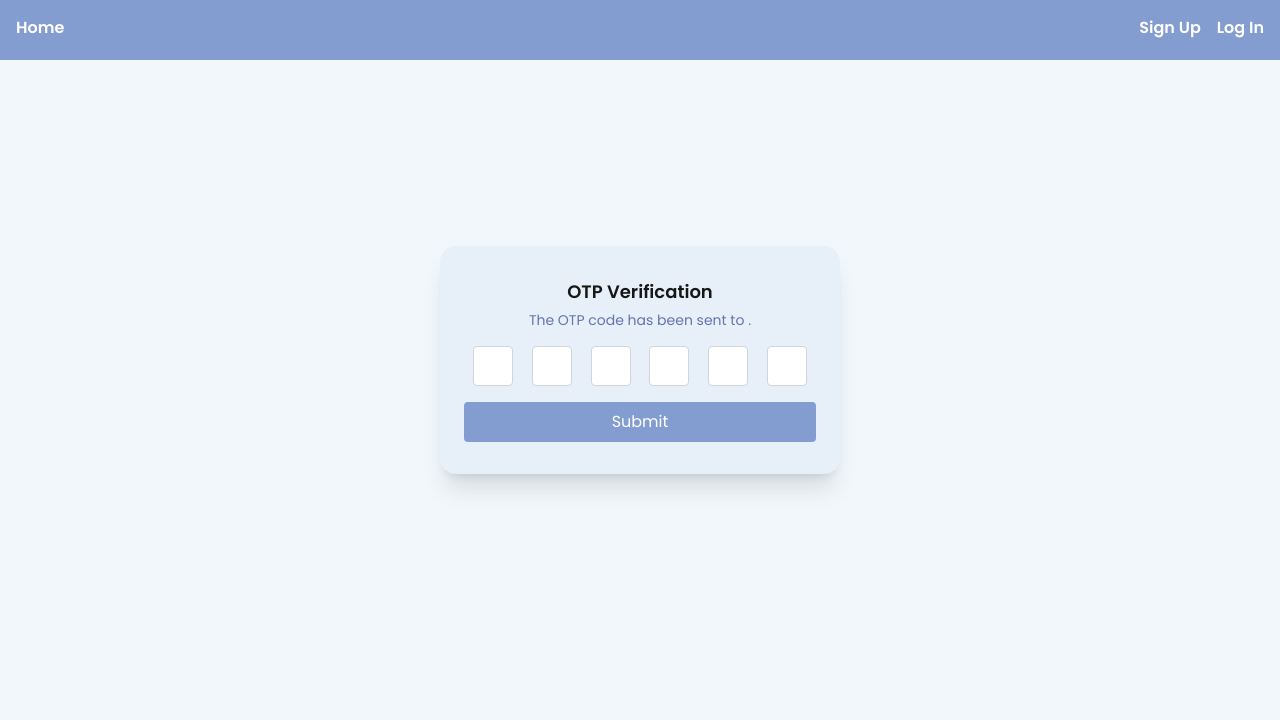
Test case: OTP Verification Page › displays an error message on invalid OTP
Type "1" into the field named "Please enter OTP character 1". click: [493, 366]
box: [473,346,513,386]
Type "2" into the field named "Please enter OTP character 2". click: [552, 366]
box: [532,346,572,386]
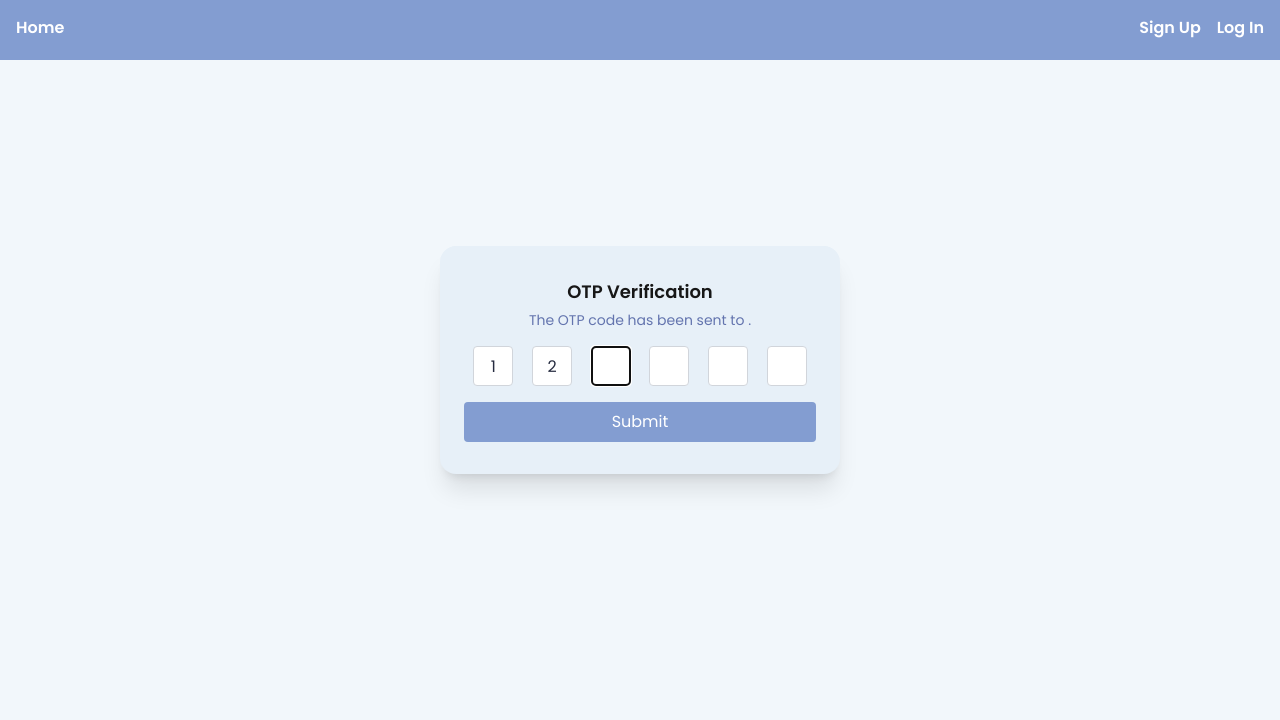
Type "3" into the field named "Please enter OTP character 3". click: [611, 366]
box: [591,346,631,386]
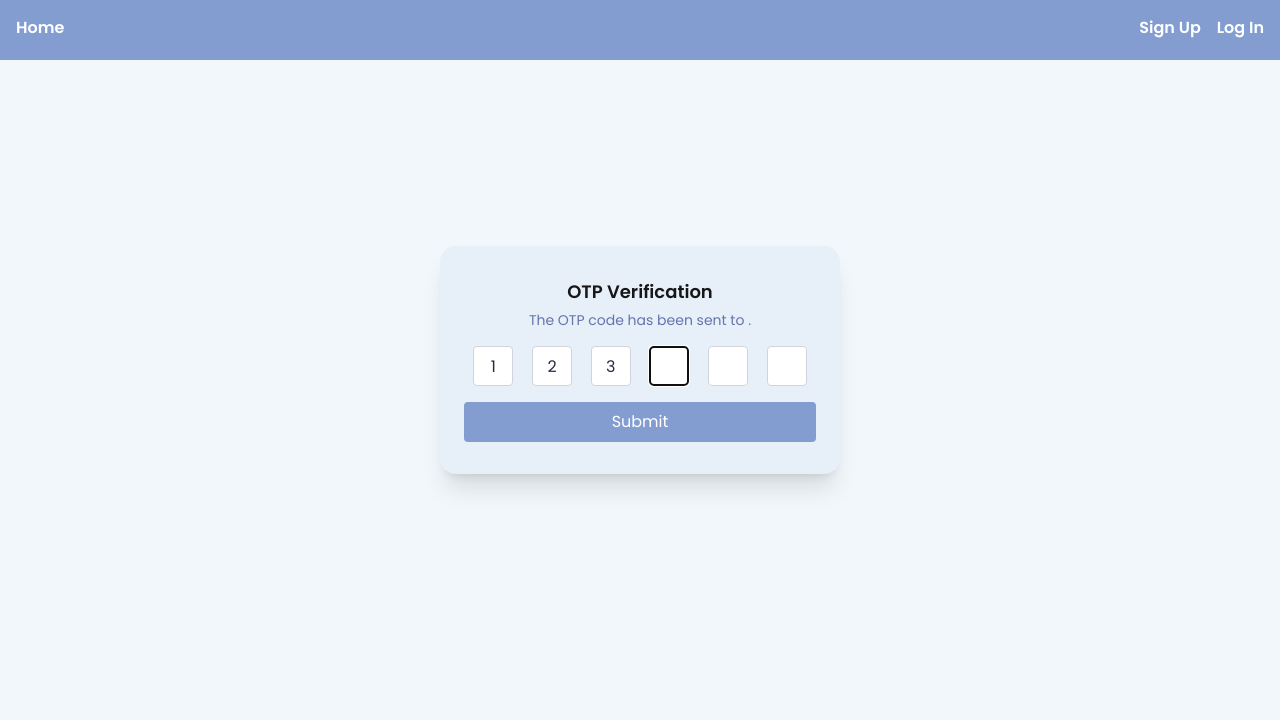
Type "4" into the field named "Please enter OTP character 4". click: [669, 366]
box: [649,346,689,386]
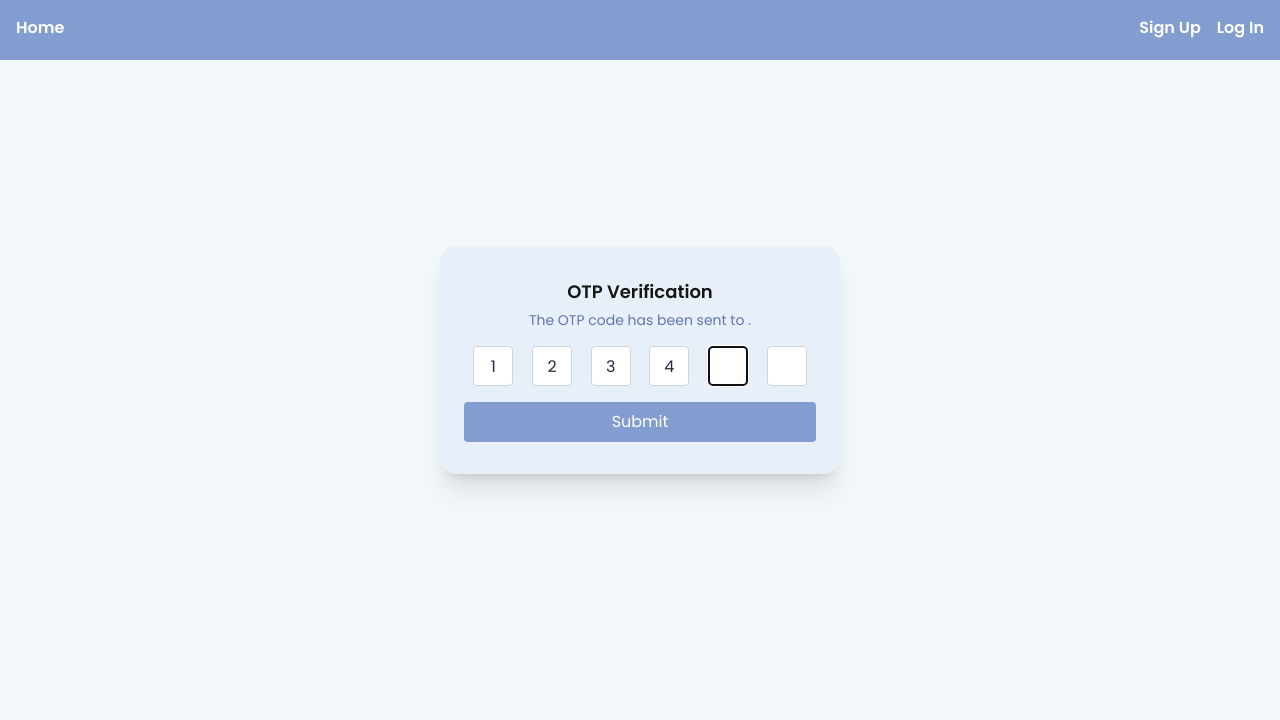
Type "5" into the field named "Please enter OTP character 5". click: [728, 366]
box: [708,346,748,386]
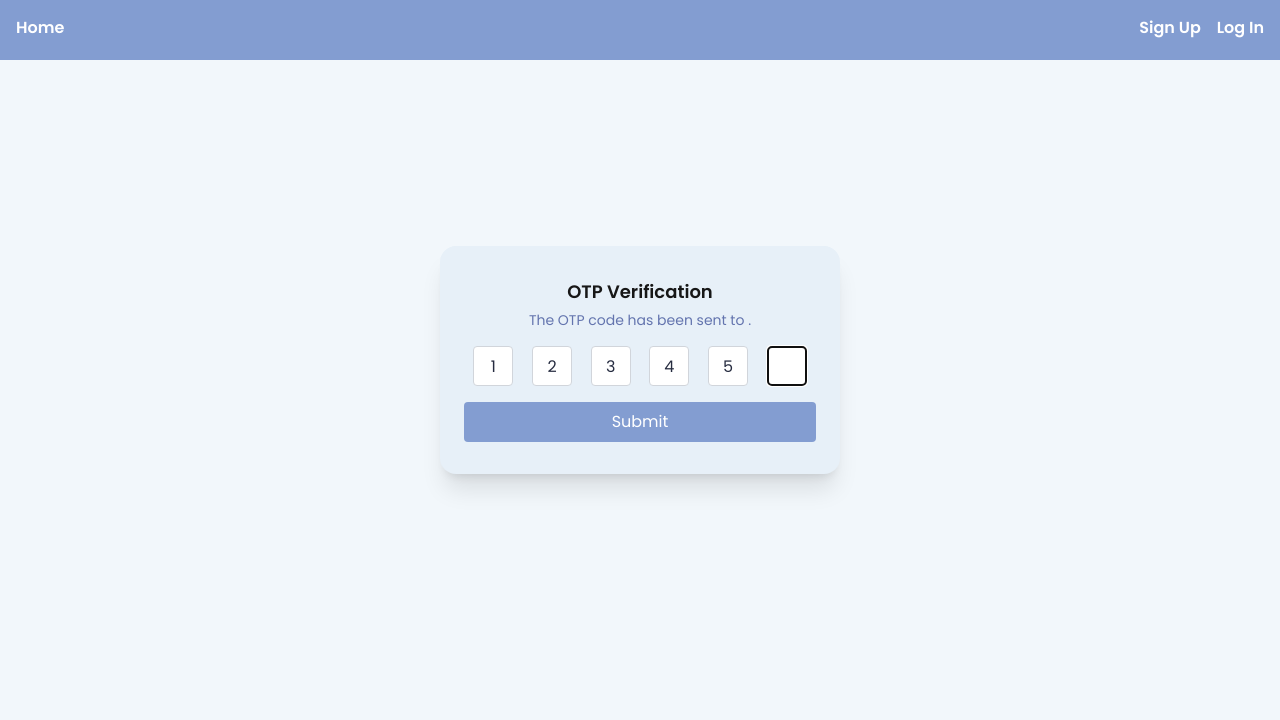
Type "6" into the field named "Please enter OTP character 6". click: [787, 366]
box: [767,346,807,386]
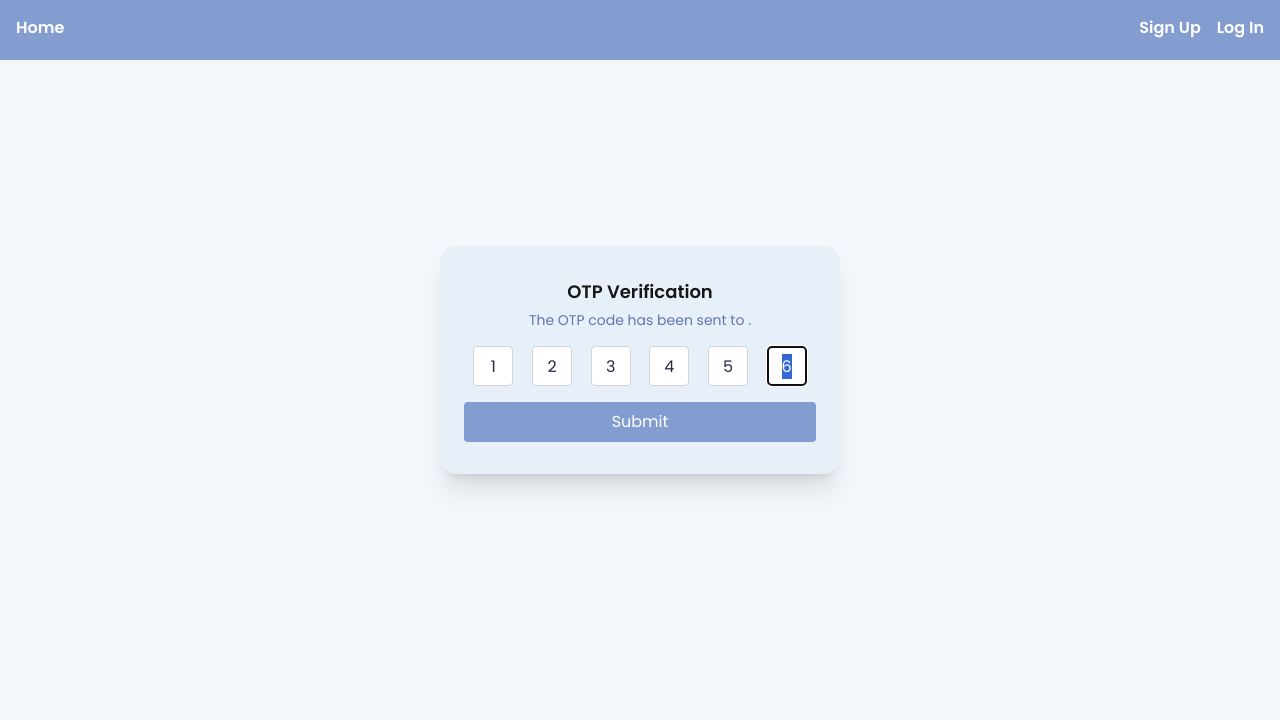
Click the button "Submit". click: [640, 422]
box: [464,402,816,442]
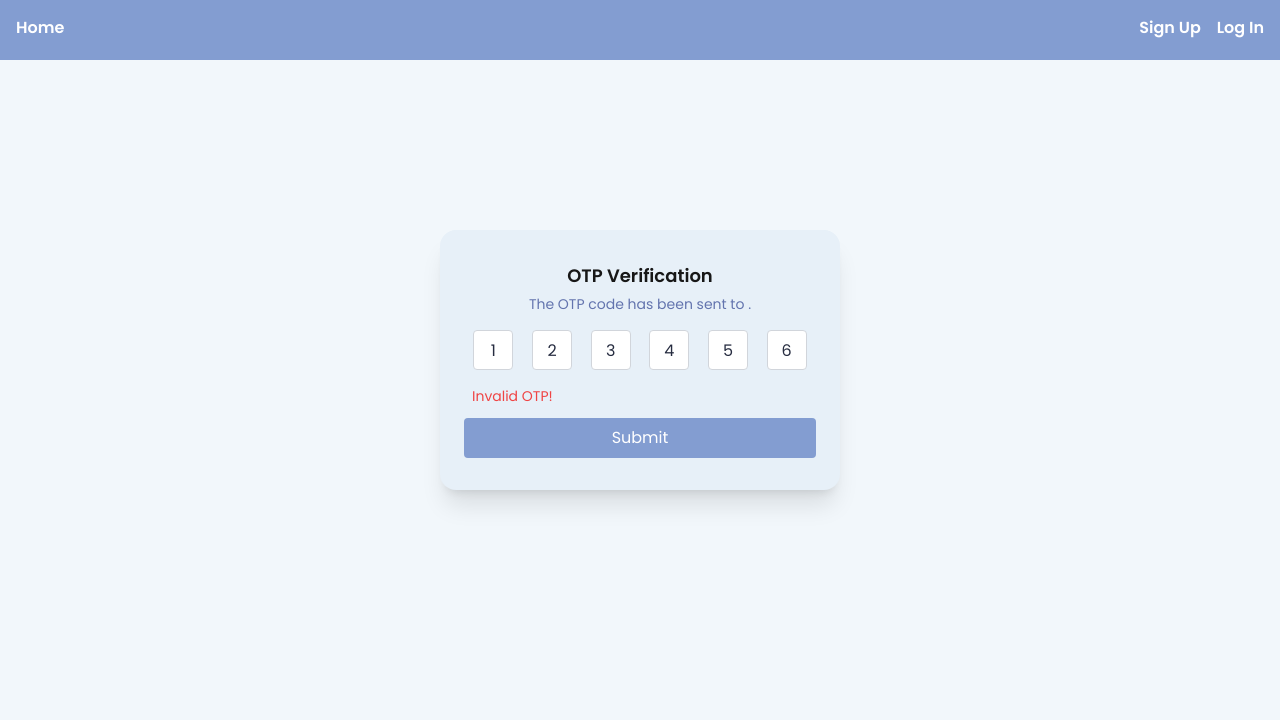
Expected: the text "Invalid OTP" is shown, [472,386,549,406]
